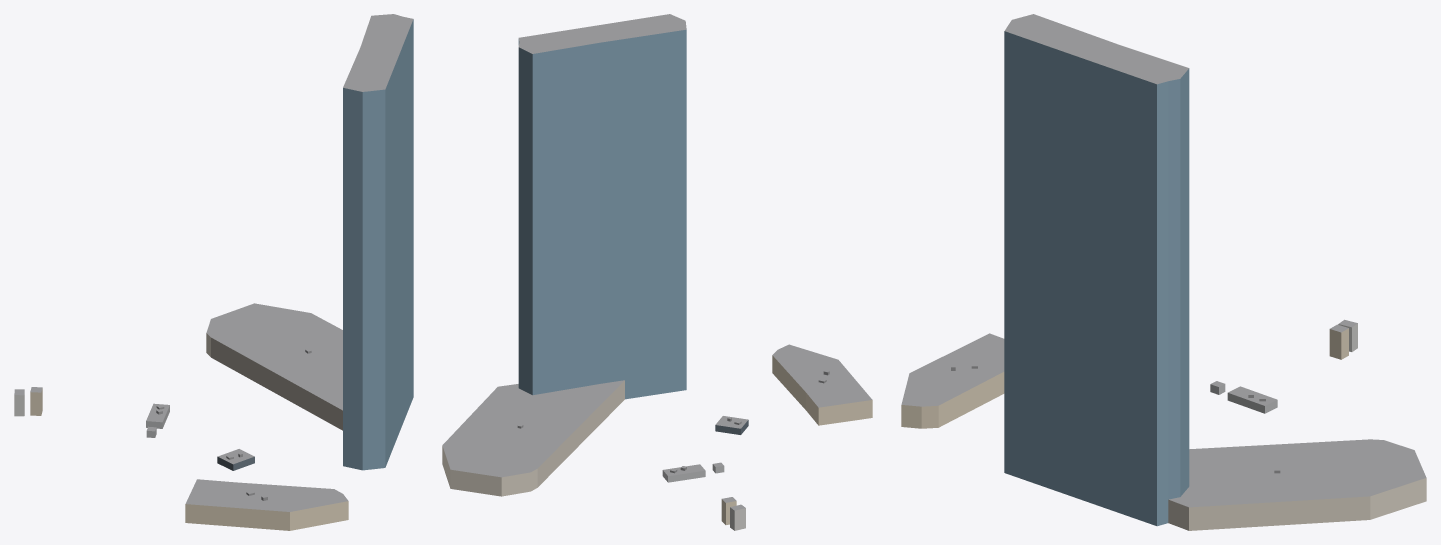
The model's file is building_-4_6.glb.
3 views of the same model, side by side, from view 1: azimuth 30°, elevation 25°; view 2: azimuth 150°, elevation 25°; view 3: azimuth 270°, elevation 25° (orthographic). The views are drawn at different scales.
Parts seen in each view (by area): view 1: glass_blue, roof, sandstone, concrete_warm; view 2: glass_blue, roof, concrete_warm, sandstone; view 3: glass_blue, roof, concrete_warm, sandstone.
Part boxes in pixels (box(x1,y1,x2,y2)): glass_blue: box(343, 19, 413, 470); roof: box(14, 14, 413, 511); sandstone: box(30, 388, 348, 530); concrete_warm: box(206, 333, 342, 430); glass_blue: box(518, 29, 686, 399); roof: box(442, 14, 872, 510); concrete_warm: box(442, 380, 624, 496); sandstone: box(721, 355, 872, 524); glass_blue: box(1004, 31, 1189, 526); roof: box(901, 14, 1426, 507); concrete_warm: box(1168, 478, 1426, 530); sandstone: box(901, 328, 1348, 428).
Bounding box in the file's own units: 163 × 180 × 194.
